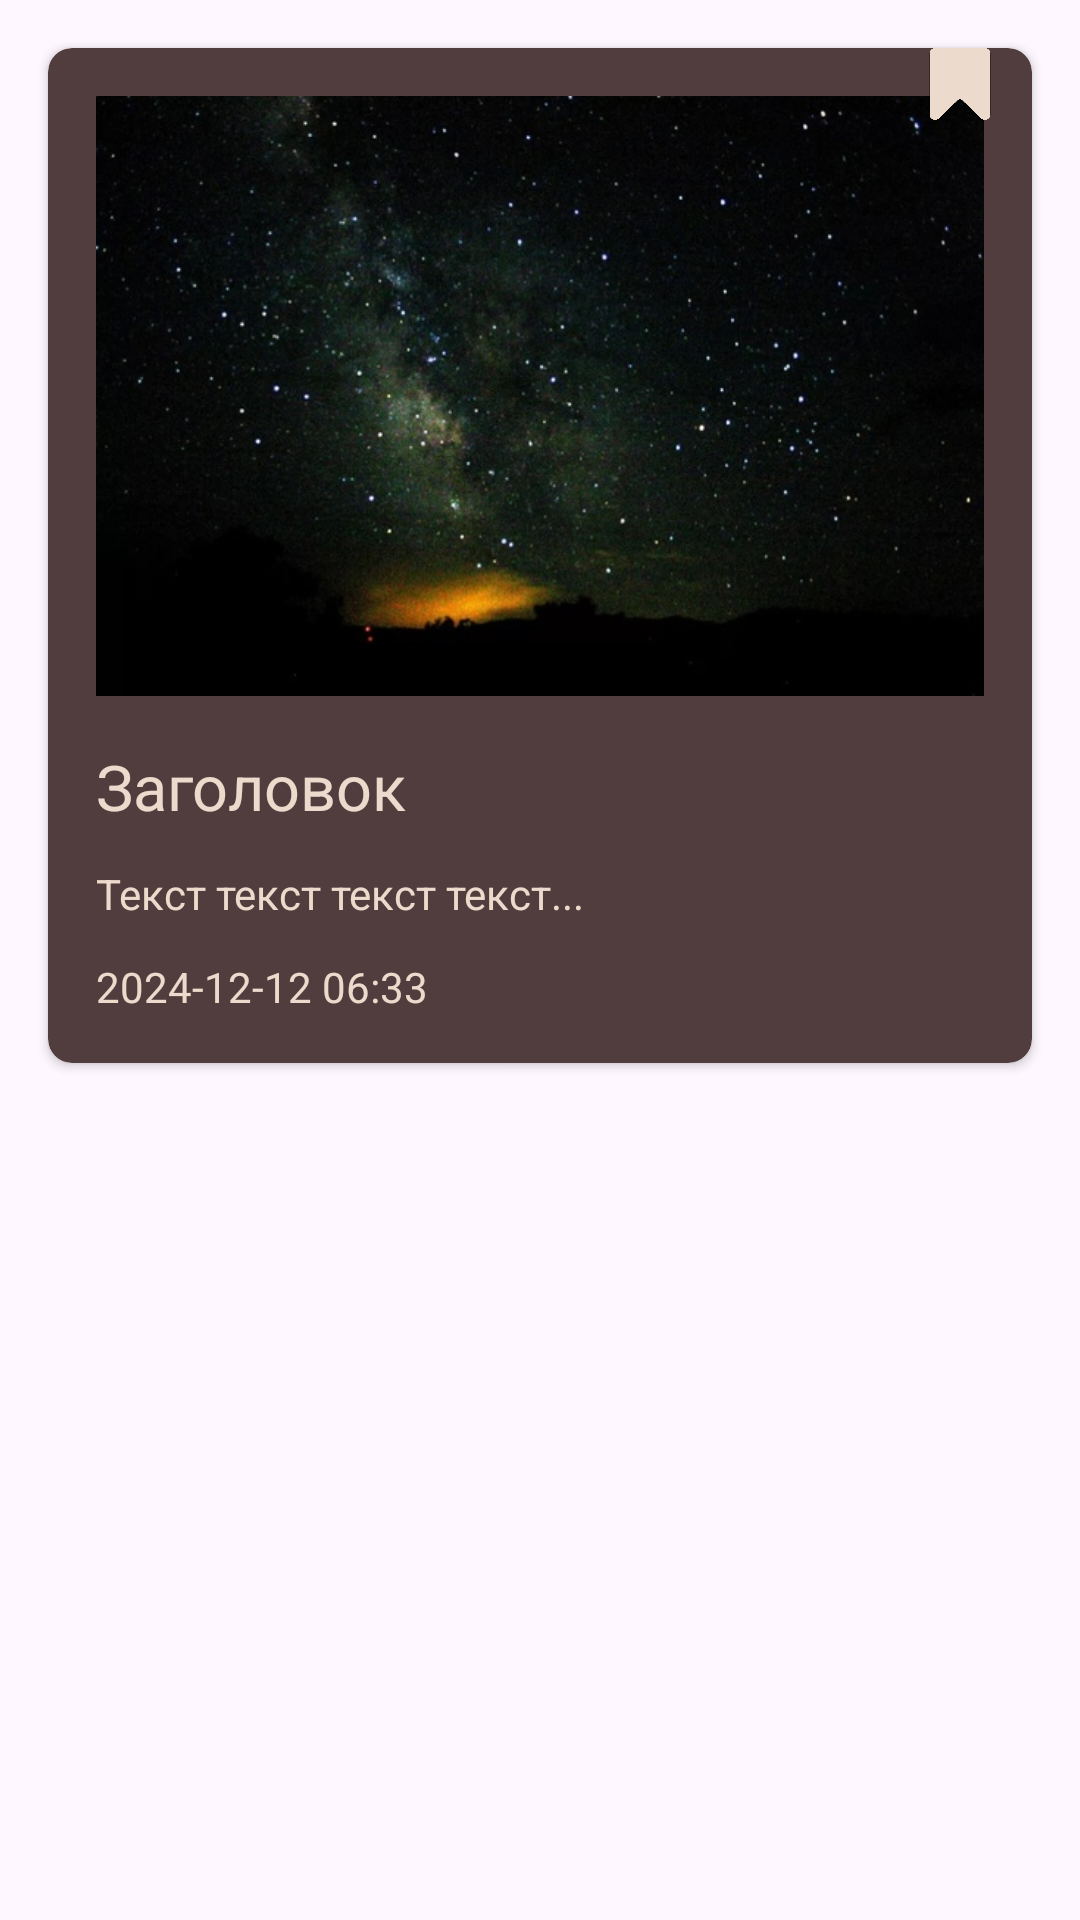

Point at icon controls on the screen. Image size 1080×1920, points as [x,y].
bookmark: [960,84]
